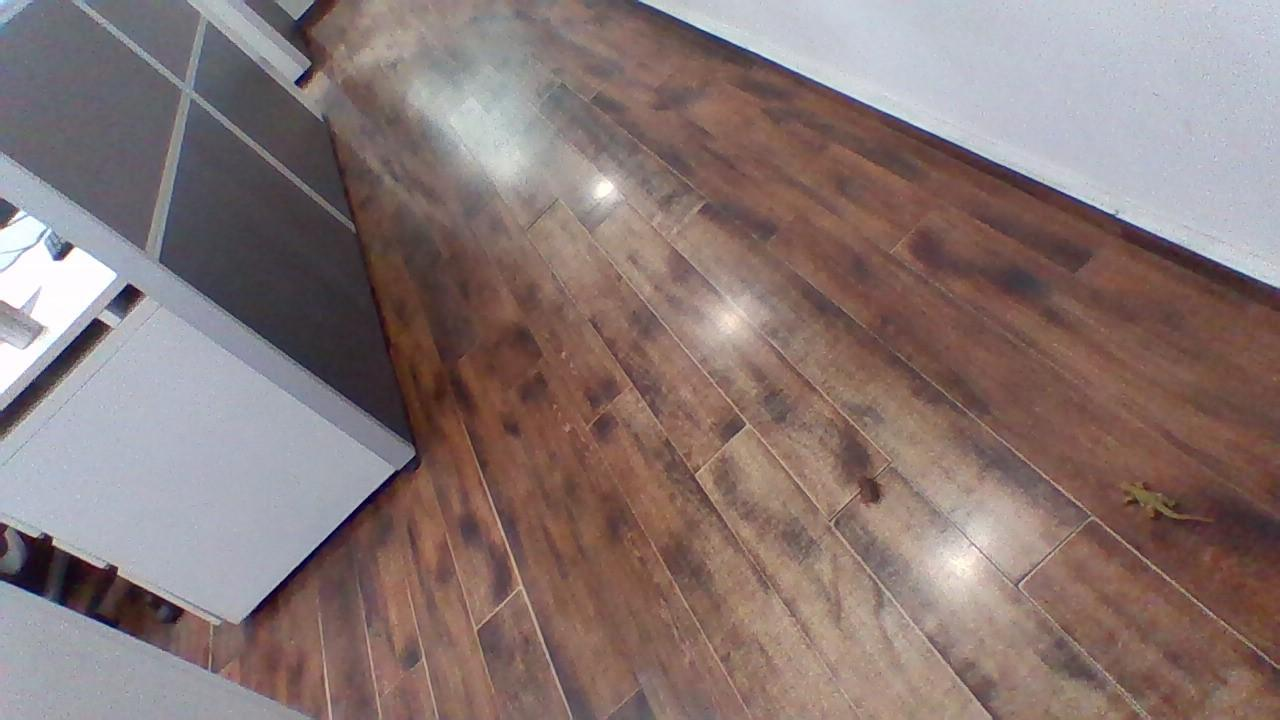cockroach: (849, 465, 891, 511)
lizard: (1112, 475, 1213, 526)
